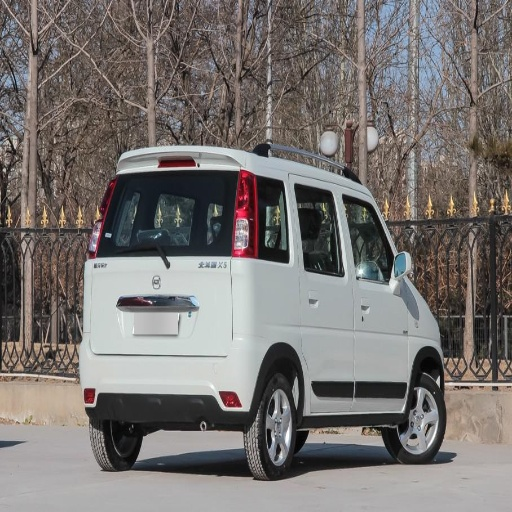back_bumper: (79, 338, 256, 420)
back_right_door: (291, 175, 359, 405)
tailgate: (86, 256, 129, 320)
trunk: (89, 254, 300, 379)
